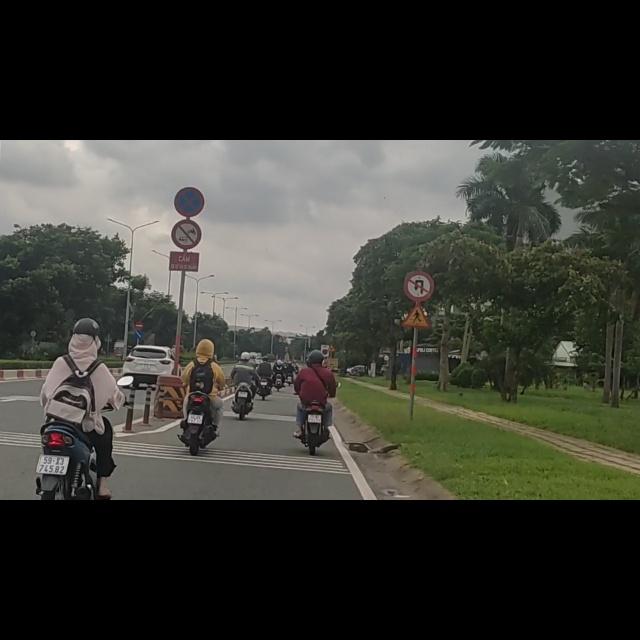bien_nguy_hiem: (404, 233, 435, 287), (171, 141, 202, 194), (175, 84, 205, 135), (402, 289, 431, 334), (135, 320, 144, 337), (134, 338, 143, 354)
